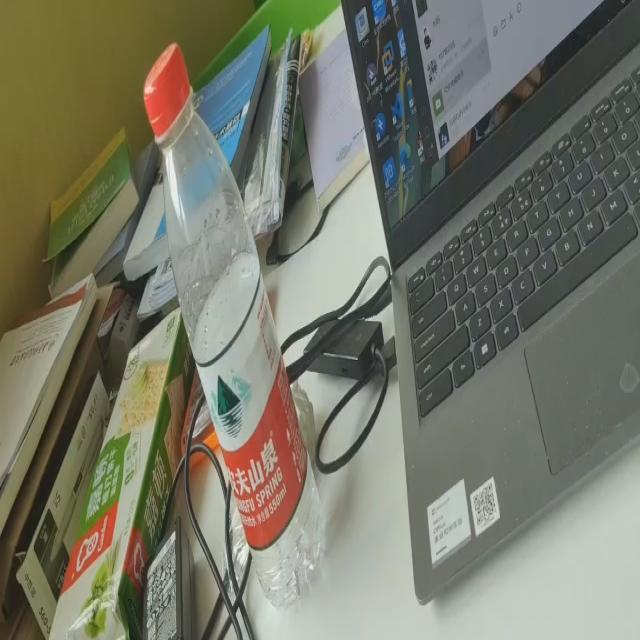good: (140, 29, 323, 617)
